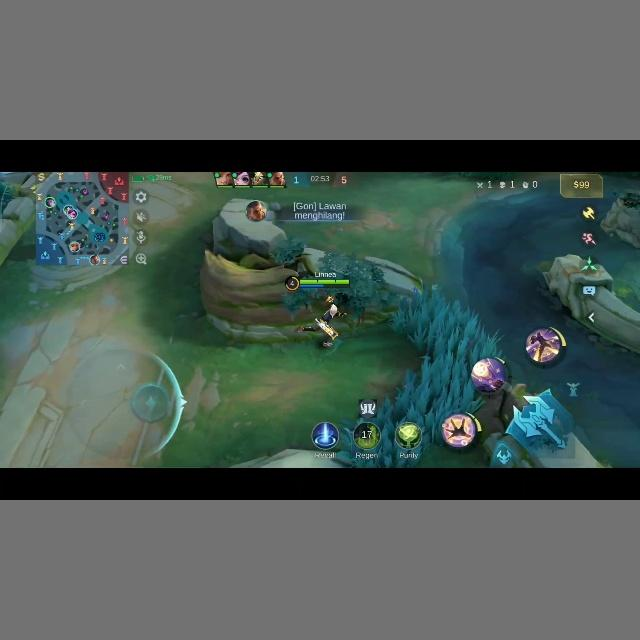hero_self: (296, 295, 346, 346)
hp_self: (296, 278, 349, 286)
